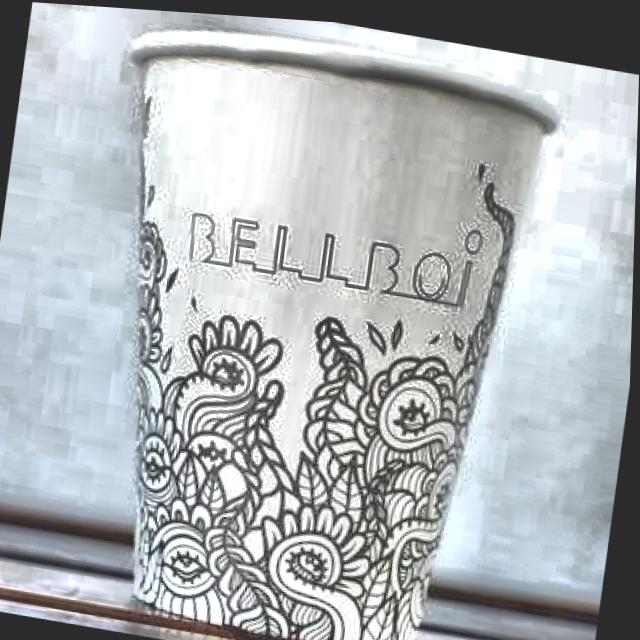Cup: (37, 3, 546, 640)
